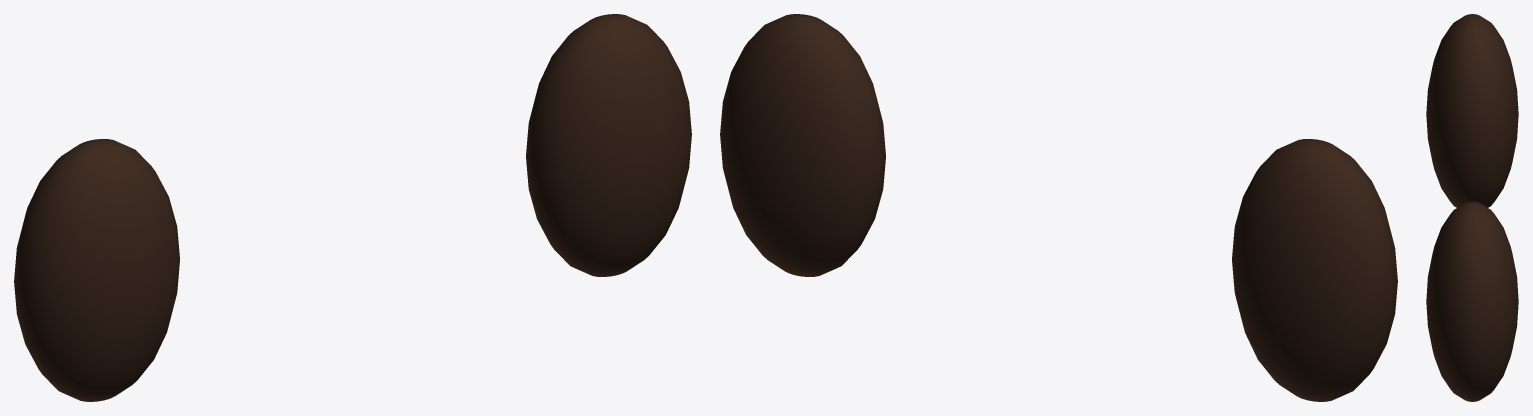
File: eyes_oval_pair.glb
3 renders of one model, left to right at view 1: azimuth 30°, elevation 25°; view 2: azimuth 150°, elevation 25°; view 3: azimuth 270°, elevation 25°, orthographic. The views are drawn at different scales.
Parts seen in each view (by area): view 1: EyesPair.001; view 2: EyesPair.001; view 3: EyesPair.001.
Part boxes in pixels (x1=…): EyesPair.001: x1=14, y1=14, x2=691, y2=401; EyesPair.001: x1=720, y1=14, x2=1397, y2=401; EyesPair.001: x1=1426, y1=14, x2=1518, y2=401.
Size of the model in its own units: 0.125 by 0.046 by 0.02.
